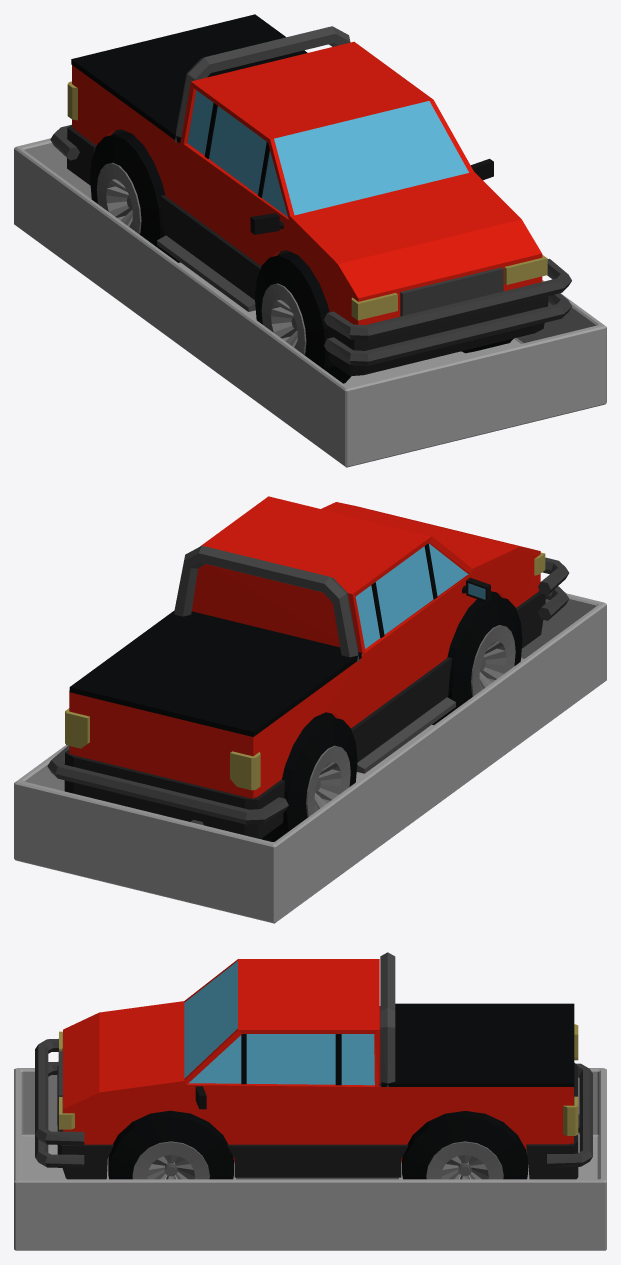
File: Toys_Truck.fbx
3 renders of one model, top to bottom at view 1: azimuth 30°, elevation 25°; view 2: azimuth 150°, elevation 25°; view 3: azimuth 270°, elevation 25°, orthographic. The views are drawn at different scales.
Parts seen in each view (by area): view 1: pasted__polySurface241; view 2: pasted__polySurface241; view 3: pasted__polySurface241.
Part boxes in pixels (x1,y1,x2,y2): pasted__polySurface241: (14, 14, 606, 467); pasted__polySurface241: (14, 496, 606, 923); pasted__polySurface241: (14, 952, 606, 1250).
Bounding box in the file's own units: 0.6879 × 0.6052 × 1.51.
